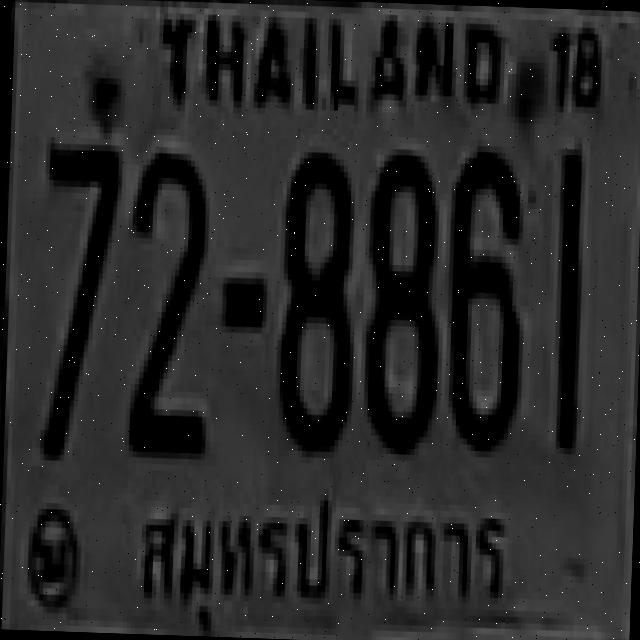2: (124, 149, 211, 450), (123, 148, 209, 438)
6: (442, 144, 522, 446)
7: (36, 136, 119, 450), (38, 137, 119, 370), (40, 137, 119, 340)
8: (358, 145, 441, 446), (274, 145, 356, 446)
SamutPrakan: (129, 478, 526, 638)
